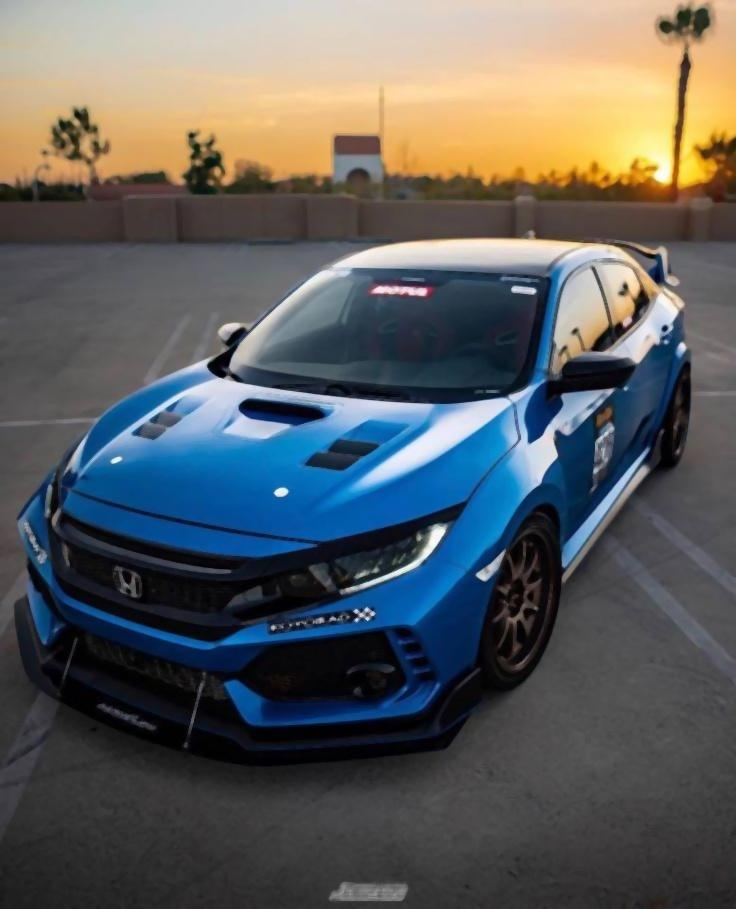Car hood: (54, 345, 527, 551)
Fender - -F-L-: (436, 369, 574, 587)
Front bumper: (15, 541, 504, 767)
Headlight - -L-: (300, 509, 477, 605)
Headlight - -R-: (25, 457, 101, 528)
Passenger-s door - -F-L-: (547, 254, 630, 575)
Passenger-s door - -R-L-: (604, 251, 684, 487)
Side bumper - -L-: (554, 435, 671, 590)
Side mirror - -L-: (548, 340, 639, 408)
Side mirror - -R-: (203, 308, 257, 365)
